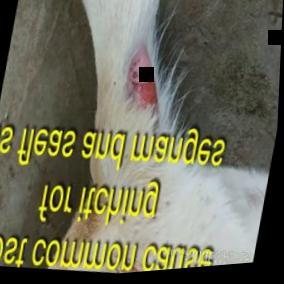skin_lesions: (119, 42, 169, 119)
